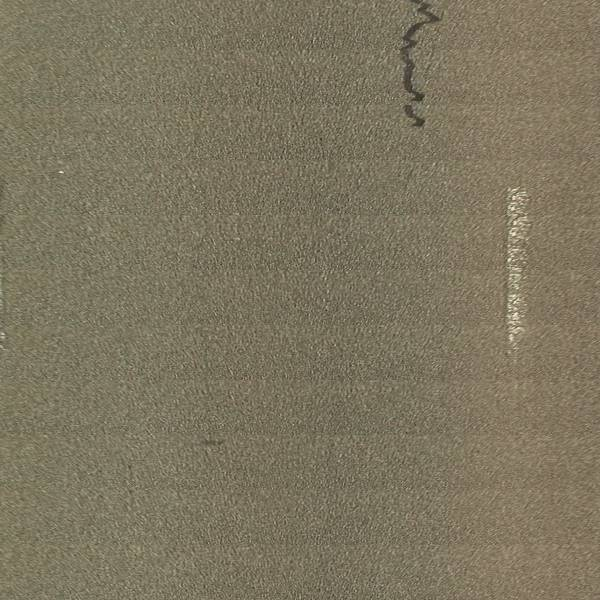road_damage: (392, 1, 449, 133)
